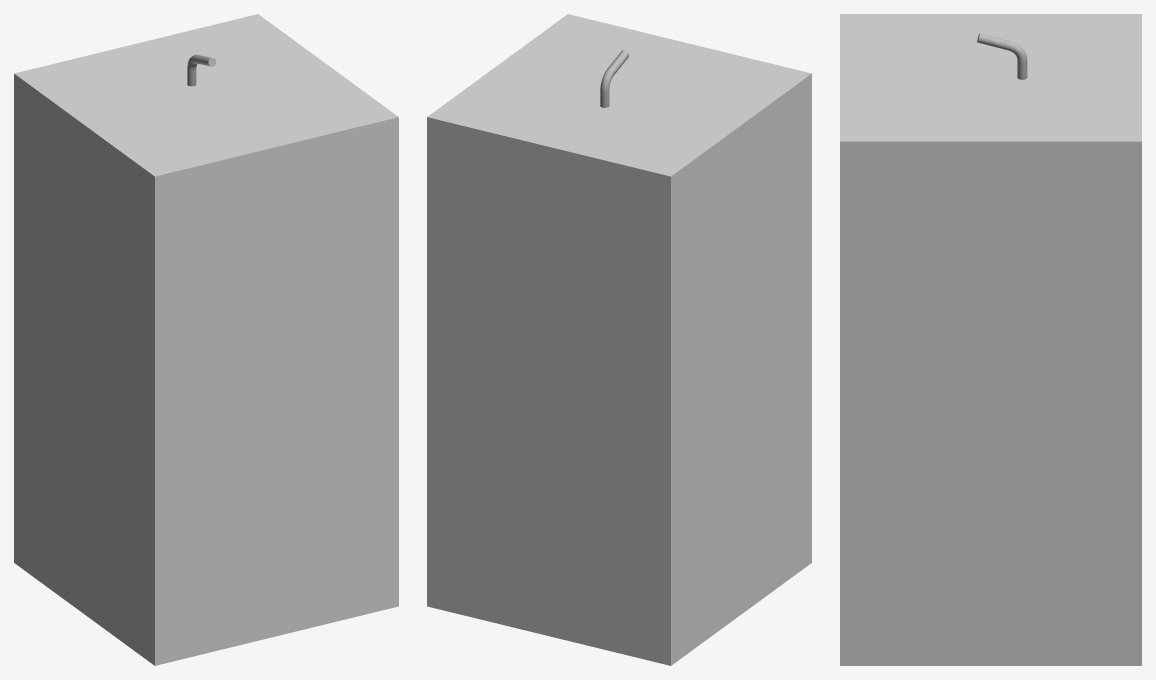
File: p8_bubbler.glb
The picture shows the model from 3 angles, left to right: view 1: azimuth 30°, elevation 25°; view 2: azimuth 150°, elevation 25°; view 3: azimuth 270°, elevation 25°; orthographic projection. The views are drawn at different scales.
Visible parts, largest first — view 1: p8_bubbler_COL; view 2: p8_bubbler_COL, p8_bubbler_LOD0; view 3: p8_bubbler_COL, p8_bubbler_LOD0.
Part boxes in pixels (box(x1,y1,x2,y2)): p8_bubbler_COL: box(14, 14, 398, 665); p8_bubbler_COL: box(427, 14, 811, 665); p8_bubbler_LOD0: box(600, 50, 629, 107); p8_bubbler_COL: box(840, 14, 1141, 665); p8_bubbler_LOD0: box(977, 33, 1027, 79).
Size of what is drawn, in the model's own units: 0.48 by 0.9977 by 0.48.
Materials: 1 (1 with a texture image).
